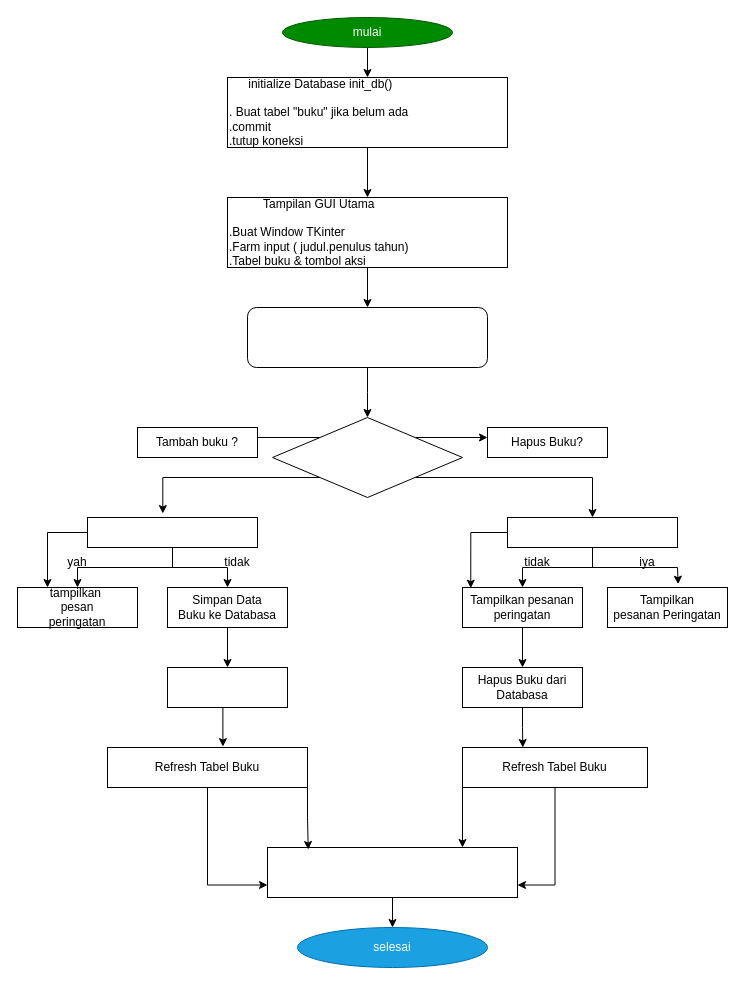
Image size: 745x985. Some labels were removed from this diagram. The centre of each missing label's shape, as x and y in pixels:
cek buku yang Dipilih: point 592,532
cek judul & penulis kosong ?: point 172,532
progam pelajaran terus menunggu interaksipenggguna: point 392,872
Tambah buku: point 367,457
Tampilkan buku .ambil data dari tabel buku" .tampilkan ke tabel GUI: point 367,337
Tampilkan pesan sukses: point 227,687
